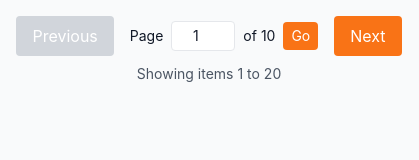
Scenario: PaginationControls › shows error for invalid page number
// Set directly to invalid value
Replace the text in the number field with "999" at (203, 36), box [171, 21, 235, 51]
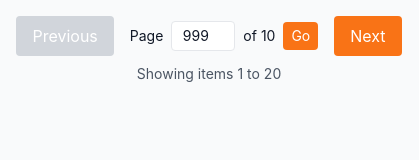
// Use form submission instead of clicking the button
Submit the form named "Go to page form", box [130, 21, 318, 51]
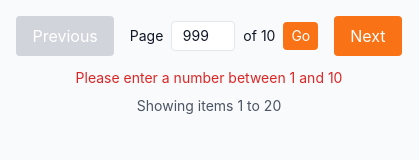
expect the message shows "Please enter a number between": met, box [76, 69, 342, 86]
